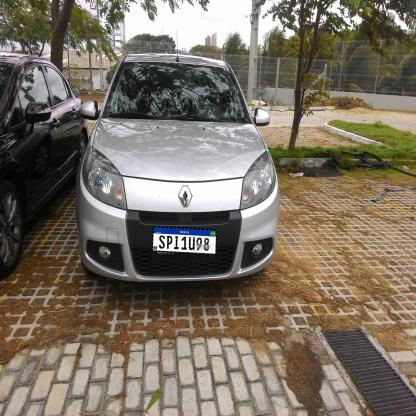PlacaM: (152, 226, 217, 255)
